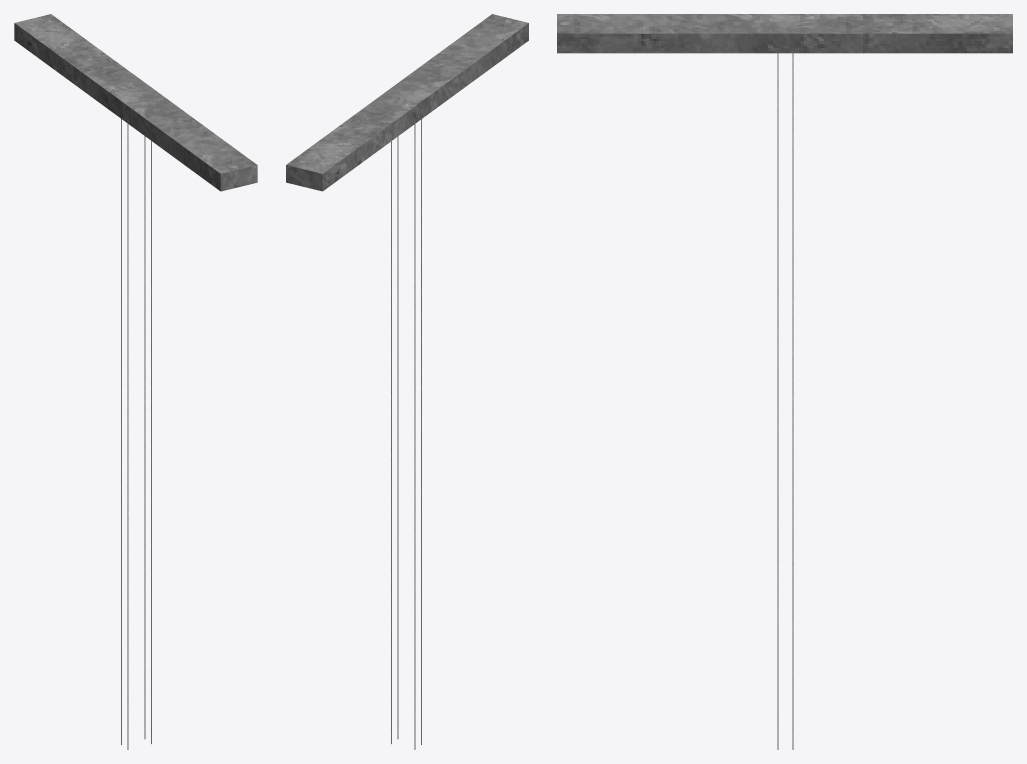
Rendered from derzhalka.glb.
3 renders of one model, left to right at view 1: azimuth 30°, elevation 25°; view 2: azimuth 150°, elevation 25°; view 3: azimuth 270°, elevation 25°, orthographic. The views are drawn at different scales.
Parts seen in each view (by area): view 1: Cube.013; view 2: Cube.013; view 3: Cube.013.
Part boxes in pixels (x1=…): Cube.013: x1=14, y1=14, x2=257, y2=749; Cube.013: x1=286, y1=14, x2=528, y2=749; Cube.013: x1=557, y1=14, x2=1012, y2=749.
Bounding box in the file's own units: 18.51 × 313 × 180.
1 material, 1 textured.
